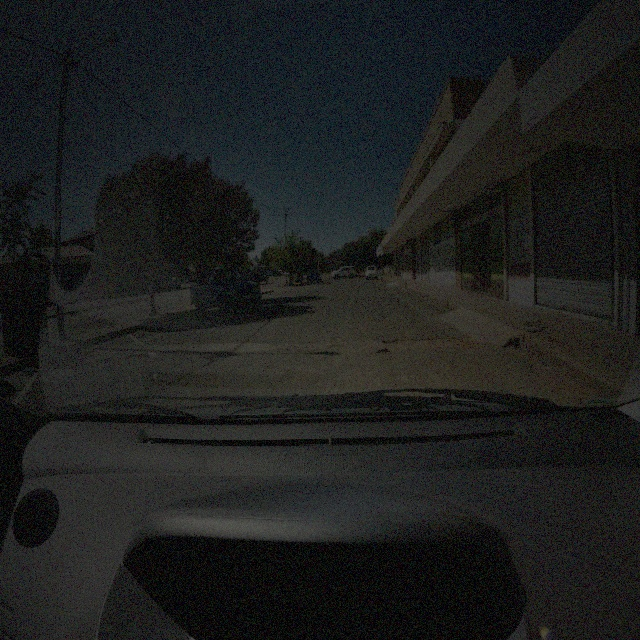pothole: (378, 334, 477, 348), (324, 338, 356, 354)
